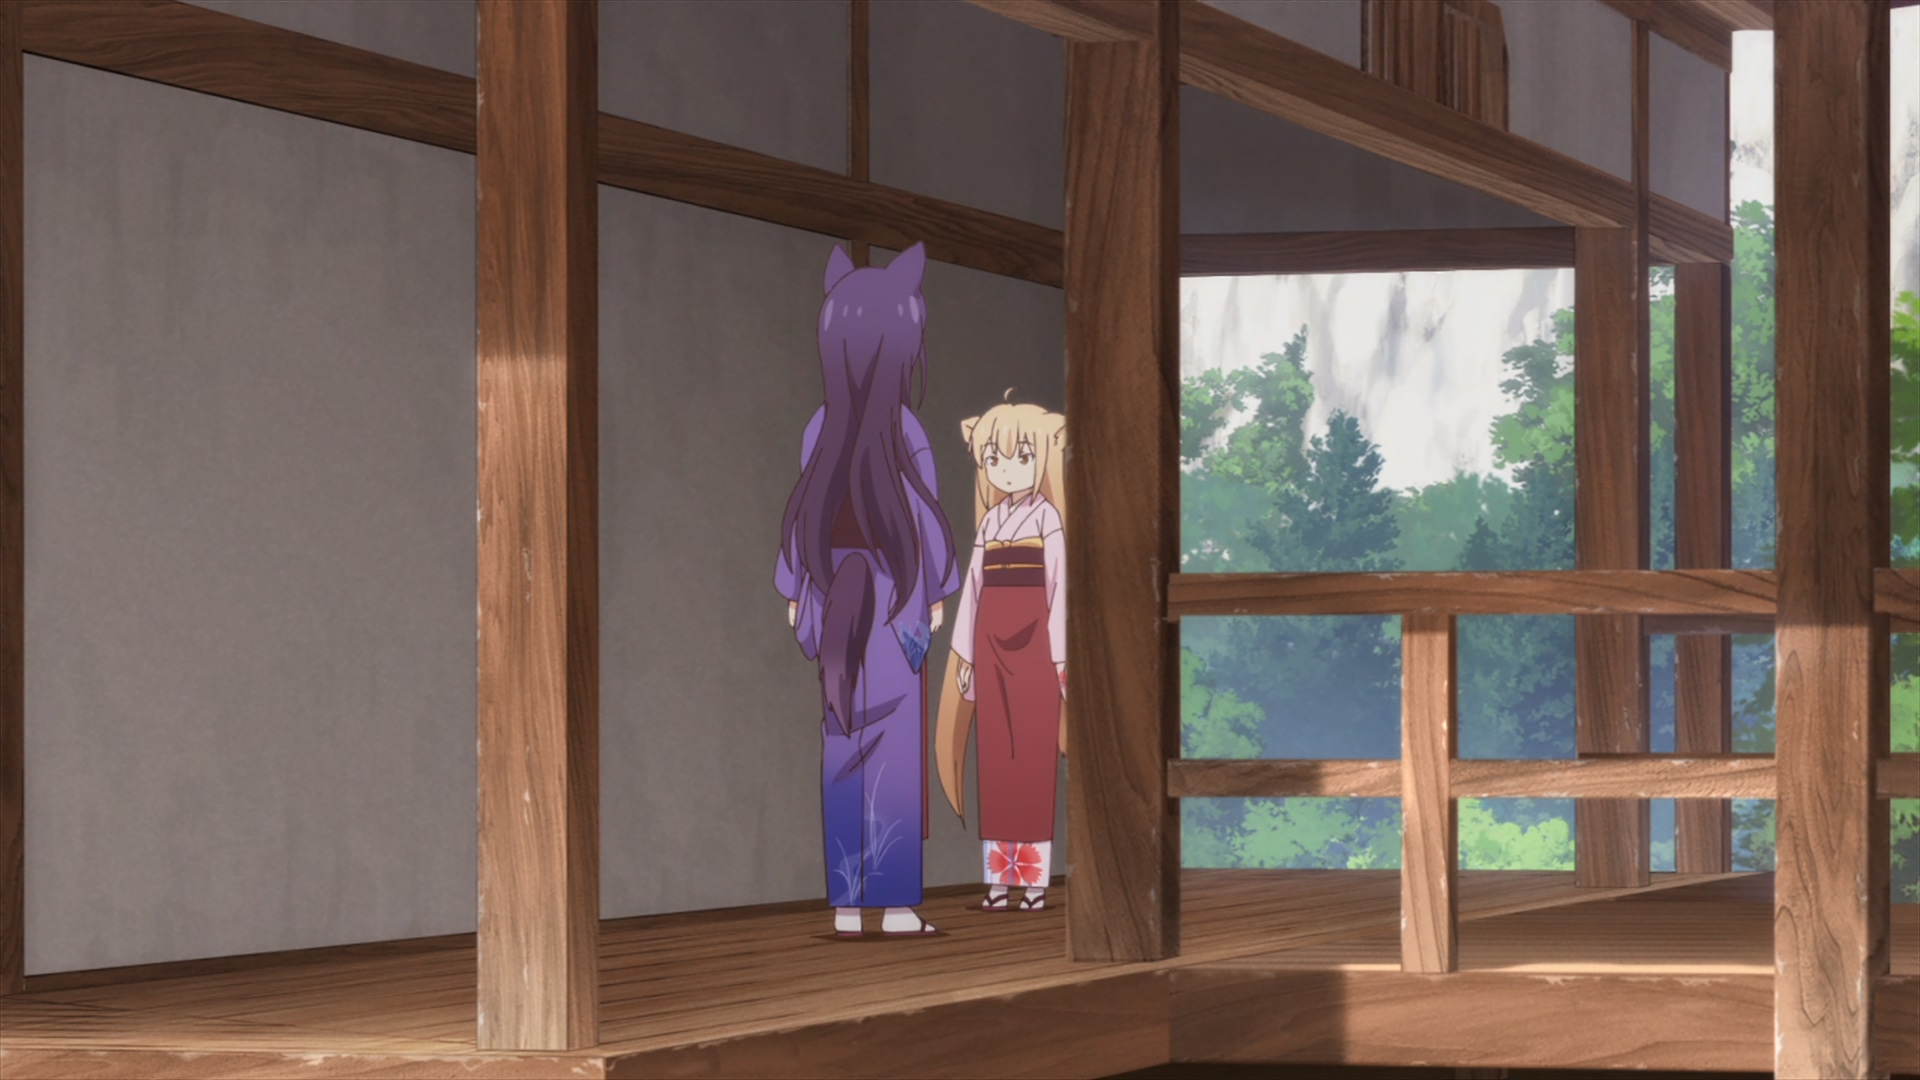柚: (934, 386, 1065, 913)
皋: (775, 244, 957, 936)
